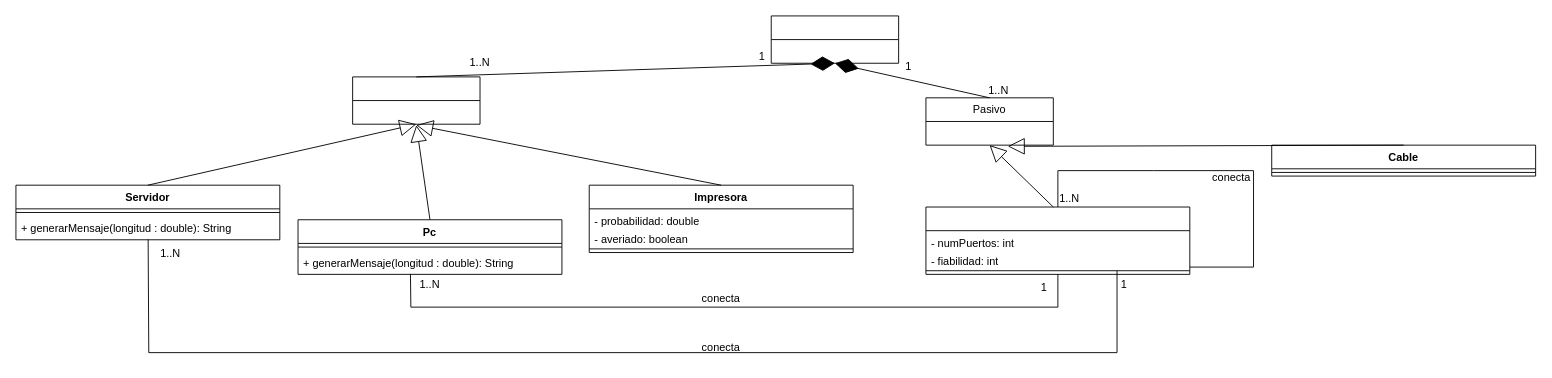
Image size: 1552x378. Some labels were removed from this diagram. Here are the shapes that lost their labels. From the top down, the box of each, then its label:
(770, 15, 899, 63): Red
(352, 76, 480, 124): Activo
(925, 206, 1190, 274): Hub
